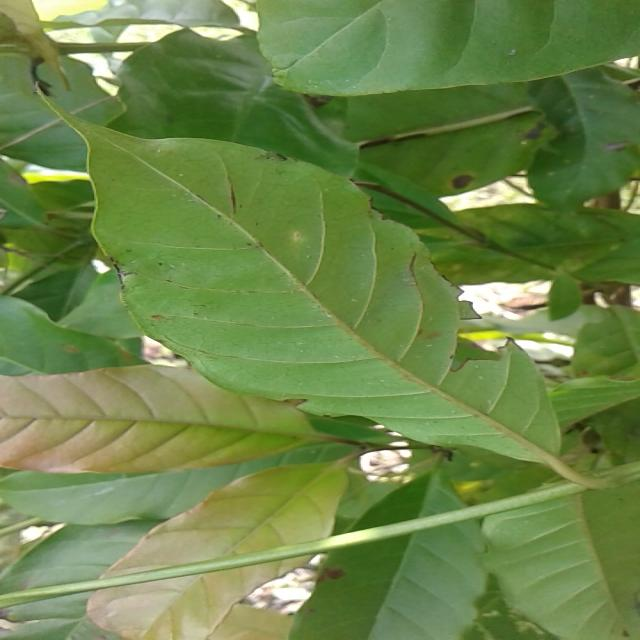Enfermedad-Roya: (56, 110, 564, 472)
